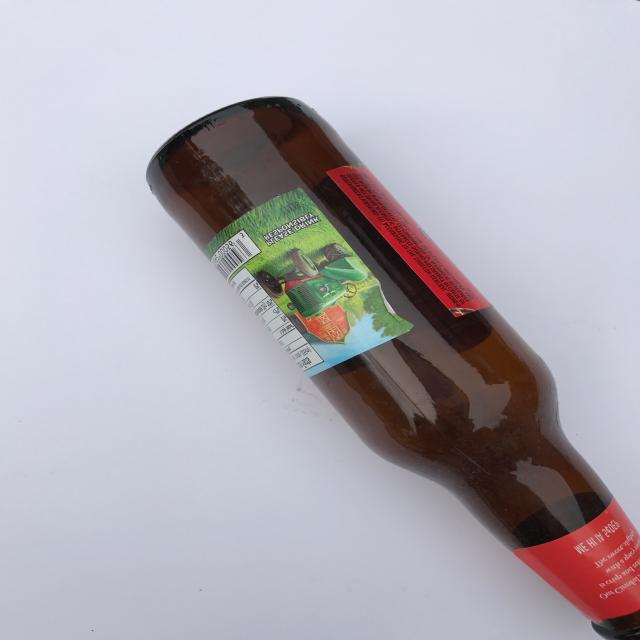glass: (145, 95, 640, 639)
